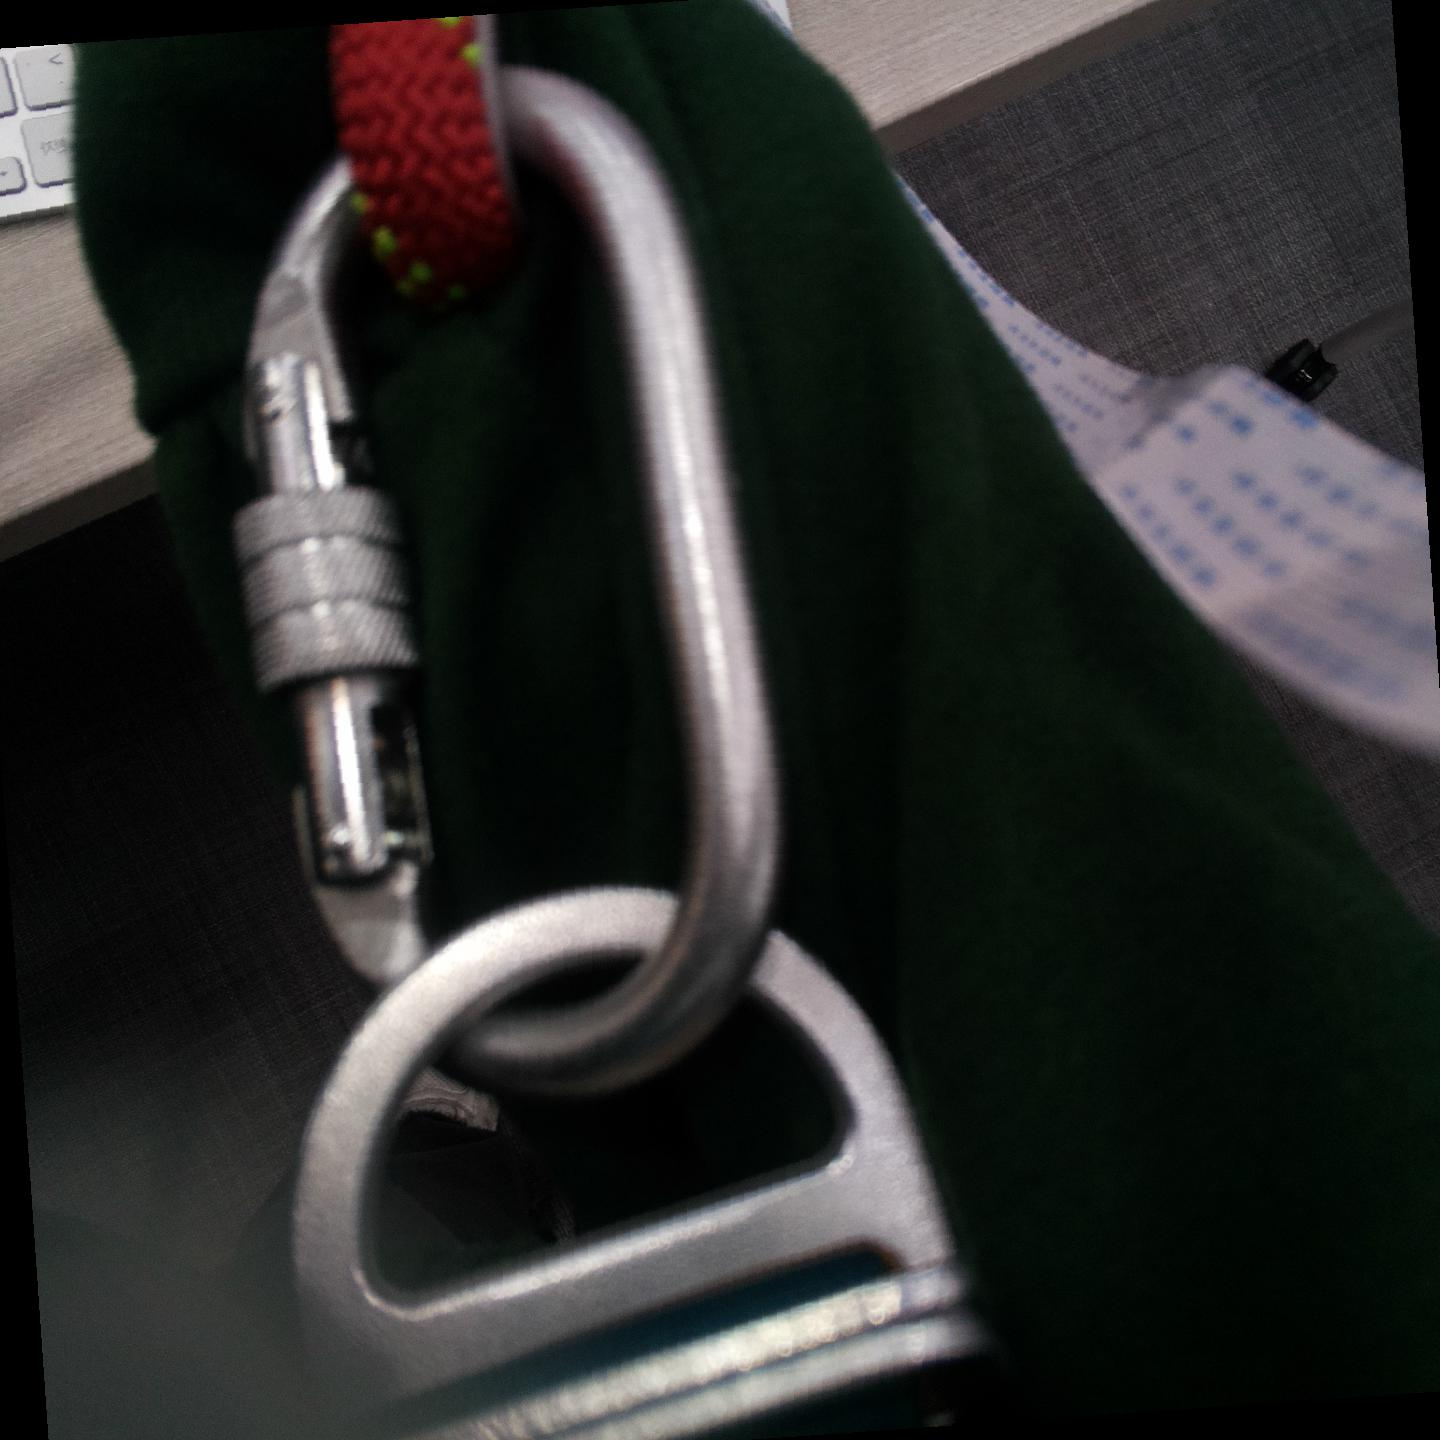SUCCESS: (229, 344, 781, 864)
